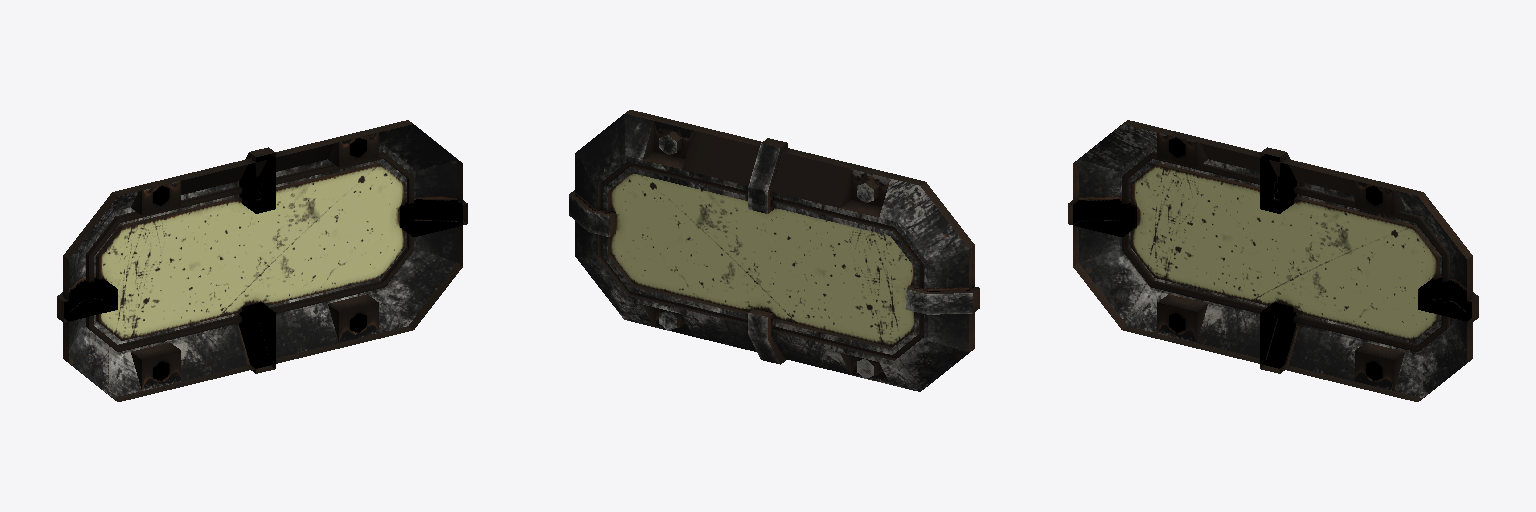
3 views of the same model, side by side, from view 1: azimuth 30°, elevation 25°; view 2: azimuth 150°, elevation 25°; view 3: azimuth 330°, elevation 25° (orthographic).
Parts seen in each view (by area): view 1: lamps; view 2: lamps; view 3: lamps.
Part boxes in pixels (x1,y1,x2,y2): lamps: (57, 120, 467, 401); lamps: (569, 110, 979, 391); lamps: (1068, 120, 1478, 401).
Bounding box in the file's own units: 0.6877 × 0.3523 × 0.0587.
4 materials, 1 textured.